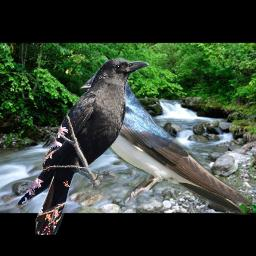Crow: (17, 57, 149, 235)
Swallow: (79, 71, 253, 215)
